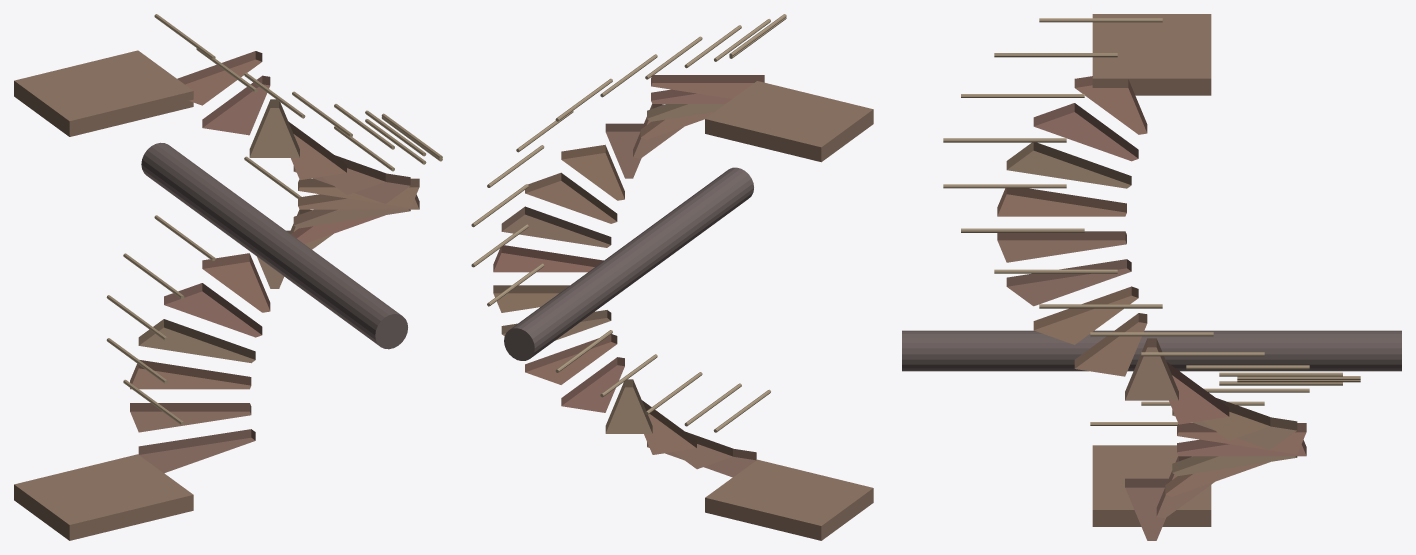
Rendered from connection_024_aligned_spiral.glb.
The picture shows the model from 3 angles, left to right: view 1: azimuth 30°, elevation 25°; view 2: azimuth 150°, elevation 25°; view 3: azimuth 270°, elevation 25°; orthographic projection. The views are drawn at different scales.
Visible parts, largest first — view 1: serpent-center-post, upper-aligned-approach, lower-aligned-approach, serpent-wedge-01, serpent-wedge-03, serpent-wedge-04, serpent-wedge-02, serpent-wedge-05, serpent-wedge-06, serpent-wedge-17, serpent-wedge-16, serpent-wedge-18 (+7 smaller); view 2: serpent-center-post, upper-aligned-approach, lower-aligned-approach, serpent-wedge-10, serpent-wedge-09, serpent-wedge-11, serpent-wedge-18, serpent-wedge-06, serpent-wedge-12, serpent-wedge-05, serpent-wedge-04, serpent-wedge-03 (+9 smaller); view 3: serpent-center-post, upper-aligned-approach, lower-aligned-approach, serpent-wedge-15, serpent-wedge-16, serpent-wedge-14, serpent-wedge-17, serpent-wedge-13, serpent-wedge-12, serpent-wedge-11, serpent-wedge-10, serpent-wedge-09 (+20 smaller).
Boxes of the visible parts, x1=… form: serpent-center-post: x1=141, y1=142, x2=407, y2=349; upper-aligned-approach: x1=14, y1=50, x2=193, y2=136; lower-aligned-approach: x1=14, y1=454, x2=193, y2=540; serpent-wedge-01: x1=138, y1=429, x2=255, y2=473; serpent-wedge-03: x1=130, y1=360, x2=251, y2=389; serpent-wedge-04: x1=138, y1=319, x2=255, y2=363; serpent-wedge-02: x1=130, y1=403, x2=251, y2=432; serpent-wedge-05: x1=164, y1=283, x2=262, y2=337; serpent-wedge-06: x1=202, y1=253, x2=270, y2=312; serpent-wedge-17: x1=202, y1=75, x2=270, y2=135; serpent-wedge-16: x1=249, y1=99, x2=299, y2=157; serpent-wedge-18: x1=177, y1=51, x2=262, y2=105; serpent-center-post: x1=504, y1=167, x2=753, y2=360; upper-aligned-approach: x1=705, y1=81, x2=873, y2=162; lower-aligned-approach: x1=705, y1=459, x2=873, y2=540; serpent-wedge-10: x1=501, y1=206, x2=611, y2=247; serpent-wedge-09: x1=493, y1=245, x2=603, y2=272; serpent-wedge-11: x1=525, y1=172, x2=617, y2=223; serpent-wedge-18: x1=651, y1=75, x2=764, y2=98; serpent-wedge-06: x1=525, y1=334, x2=617, y2=384; serpent-wedge-12: x1=561, y1=144, x2=624, y2=200; serpent-wedge-05: x1=561, y1=357, x2=624, y2=412; serpent-wedge-04: x1=605, y1=379, x2=652, y2=433; serpent-wedge-03: x1=642, y1=400, x2=696, y2=454; serpent-center-post: x1=902, y1=330, x2=1401, y2=371; upper-aligned-approach: x1=1092, y1=14, x2=1211, y2=95; lower-aligned-approach: x1=1092, y1=445, x2=1211, y2=526; serpent-wedge-15: x1=997, y1=188, x2=1126, y2=216; serpent-wedge-16: x1=1006, y1=142, x2=1131, y2=188; serpent-wedge-14: x1=997, y1=231, x2=1126, y2=262; serpent-wedge-17: x1=1033, y1=103, x2=1138, y2=161; serpent-wedge-13: x1=1006, y1=259, x2=1131, y2=306; serpent-wedge-12: x1=1033, y1=286, x2=1138, y2=344; serpent-wedge-11: x1=1074, y1=313, x2=1147, y2=376; serpent-wedge-10: x1=1125, y1=338, x2=1178, y2=400; serpent-wedge-09: x1=1166, y1=362, x2=1229, y2=424.
Size of the model in its own units: 2.81 by 3.58 by 3.2.
